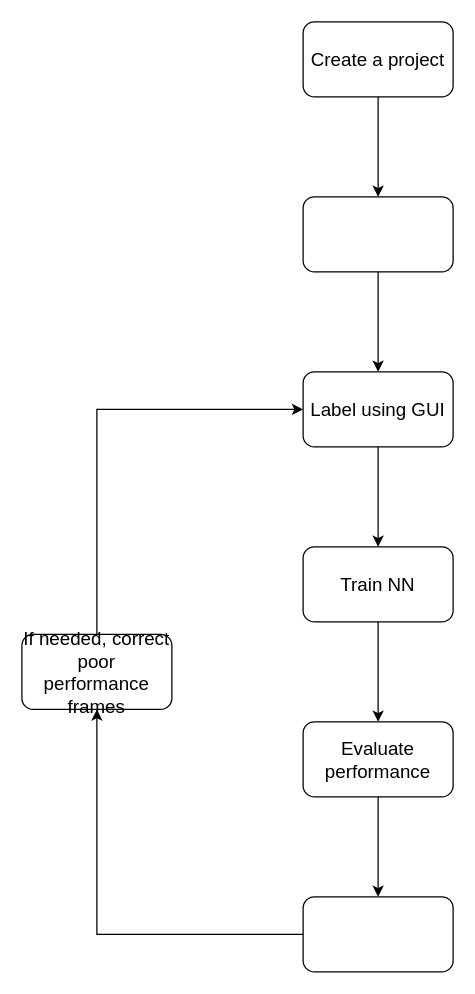
This 475x994 diagram has some shape labels left out. Each missing label, with the centre of its shape:
Extract frames: the point at 377,234
Label full videos: the point at 377,934
